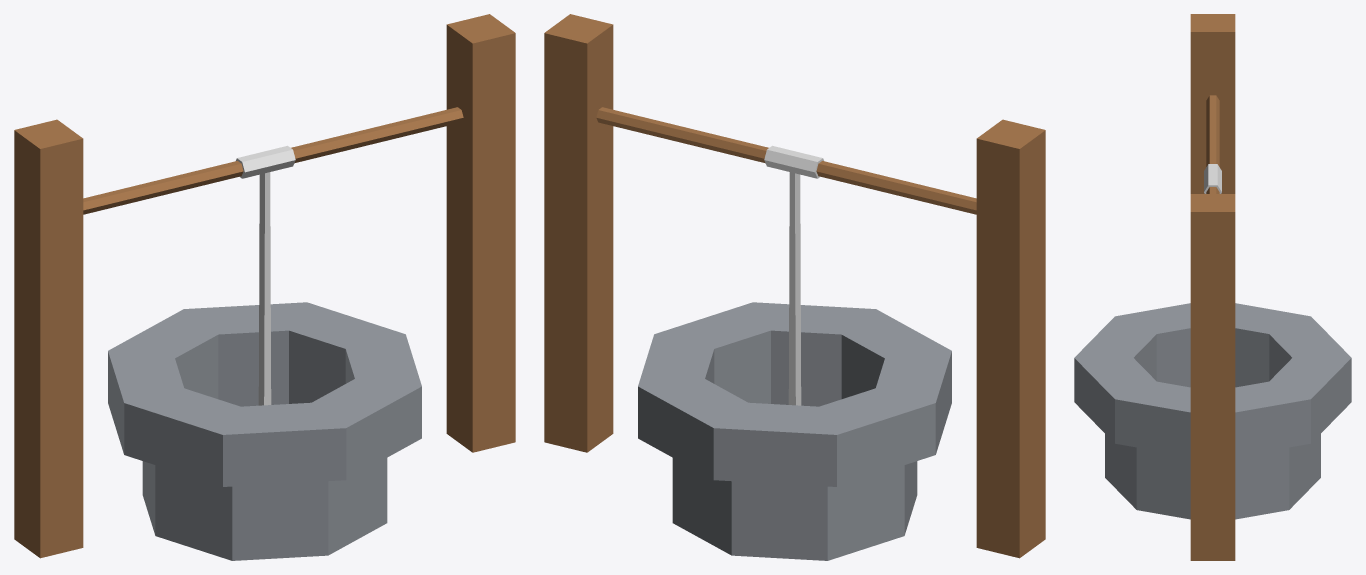
Rendered from Kuyu.fbx.
3 renders of one model, left to right at view 1: azimuth 30°, elevation 25°; view 2: azimuth 150°, elevation 25°; view 3: azimuth 270°, elevation 25°, orthographic. The views are drawn at different scales.
Parts seen in each view (by area): view 1: Kuyu; view 2: Kuyu; view 3: Kuyu.
Part boxes in pixels (x1,y1,x2,y2): Kuyu: (14,14,515,560); Kuyu: (544,14,1045,560); Kuyu: (1074,14,1351,560).
Size of the model in its own units: 673 by 579 by 399.
